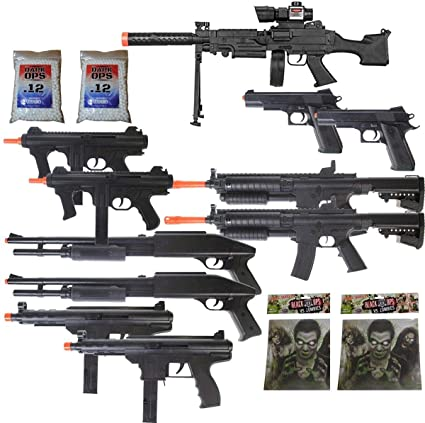Arma Falsa: (122, 3, 418, 87), (160, 203, 425, 279), (62, 335, 238, 417), (174, 159, 422, 216), (30, 166, 180, 240), (3, 228, 260, 269), (308, 103, 424, 170), (2, 125, 152, 176), (240, 88, 350, 154), (2, 299, 179, 338), (4, 270, 295, 271)
